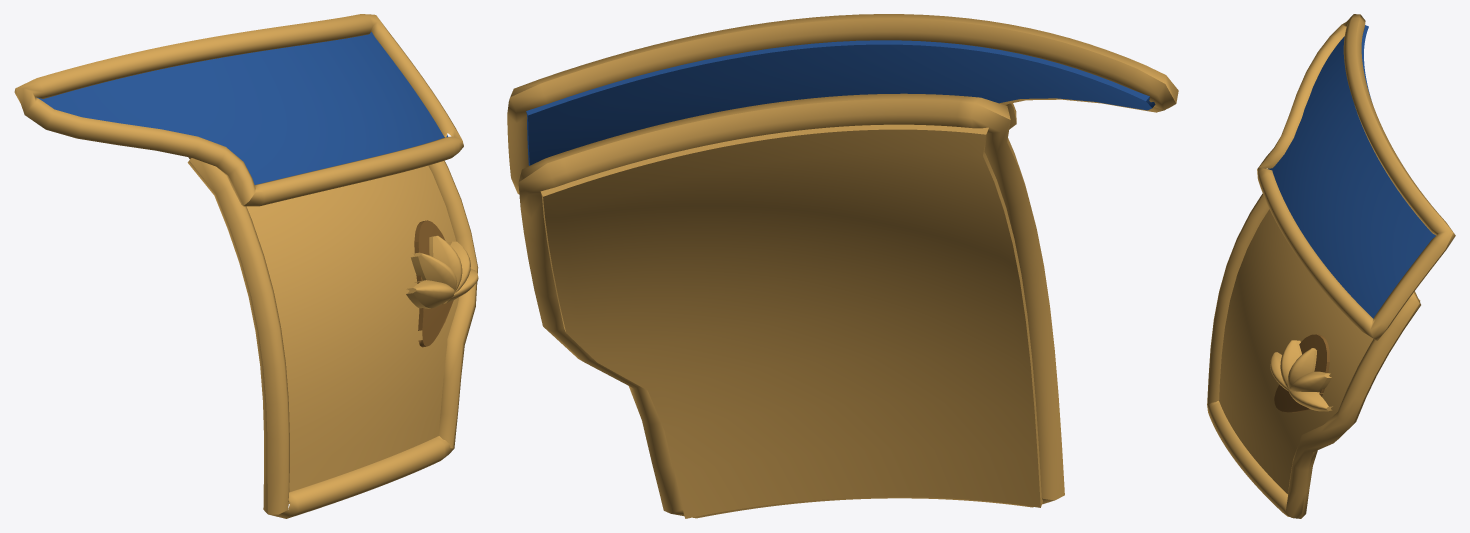
File: shoulder-armour-near.glb
3 renders of one model, left to right at view 1: azimuth 30°, elevation 25°; view 2: azimuth 150°, elevation 25°; view 3: azimuth 270°, elevation 25°, orthographic. The views are drawn at different scales.
Parts seen in each view (by area): view 1: OriginalLeftShoulderArmour; view 2: OriginalLeftShoulderArmour; view 3: OriginalLeftShoulderArmour.
Boxes of the visible parts, x1,y1,x2,y2 form: OriginalLeftShoulderArmour: (14,14,478,518); OriginalLeftShoulderArmour: (507,14,1178,518); OriginalLeftShoulderArmour: (1207,14,1455,518).
Bounding box in the file's own units: 0.1069 × 0.0989 × 0.0621.
